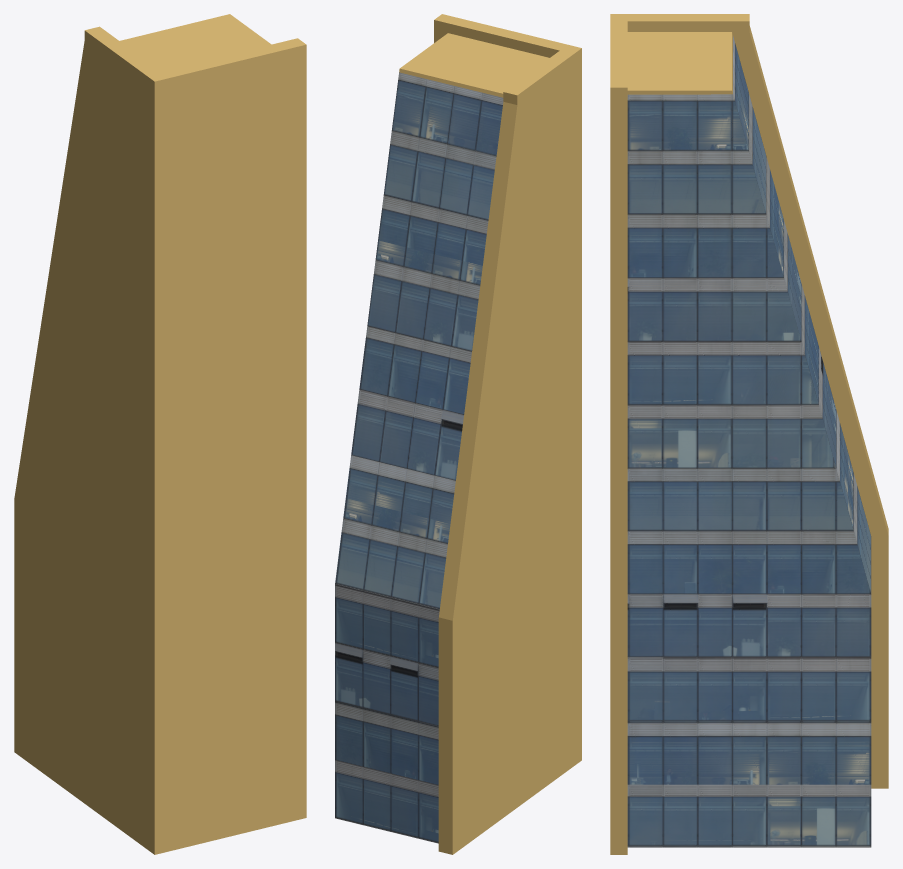
File: Sci-Fi_Tower_Top.fbx
The picture shows the model from 3 angles, left to right: view 1: azimuth 30°, elevation 25°; view 2: azimuth 150°, elevation 25°; view 3: azimuth 270°, elevation 25°; orthographic projection. The views are drawn at different scales.
Parts seen in each view (by area): view 1: Plane.004; view 2: Plane.004; view 3: Plane.004.
Part boxes in pixels (box(x1,y1,x2,y2)): Plane.004: box(14, 14, 306, 854); Plane.004: box(335, 14, 581, 854); Plane.004: box(610, 14, 888, 854).
Bounding box in the file's own units: 7.5 × 36.5 × 12.
